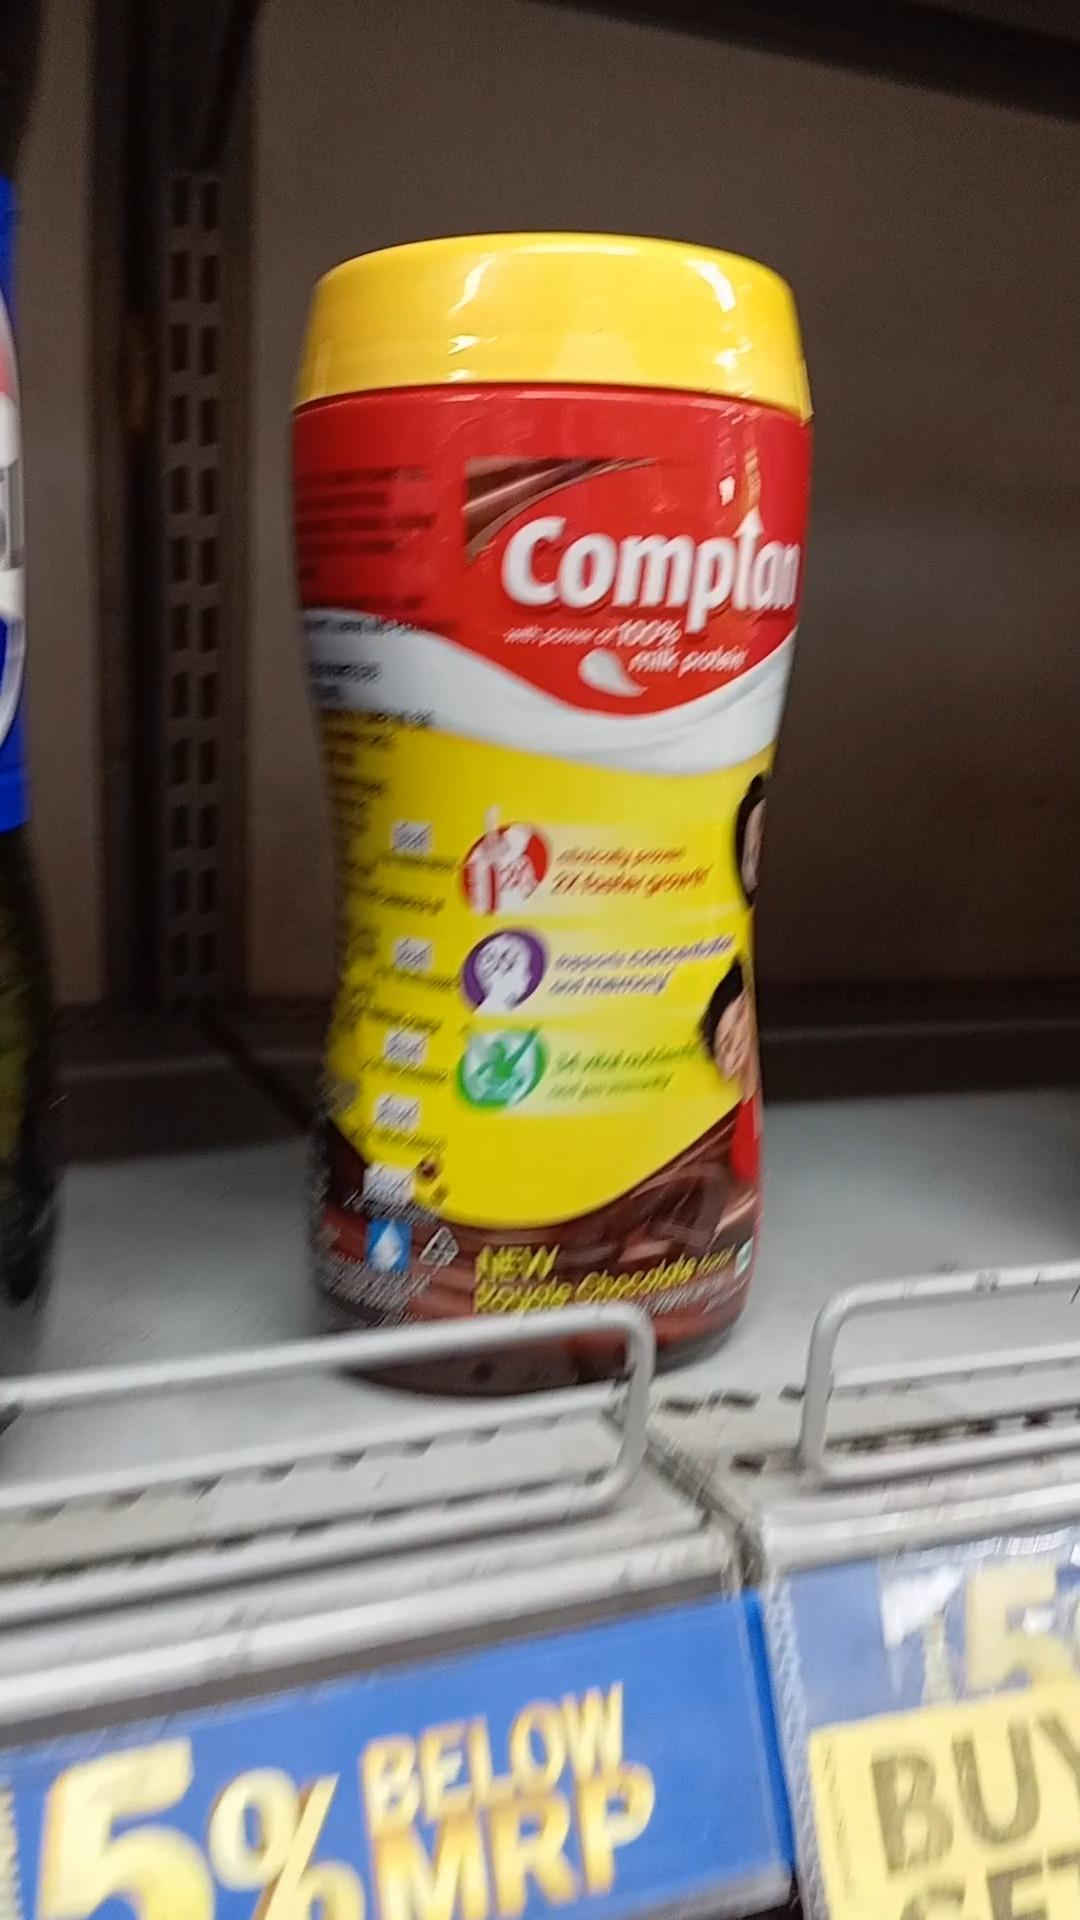COMPLAN_CHOCOLATE_500_GMS_JAR: (270, 210, 760, 1345)
